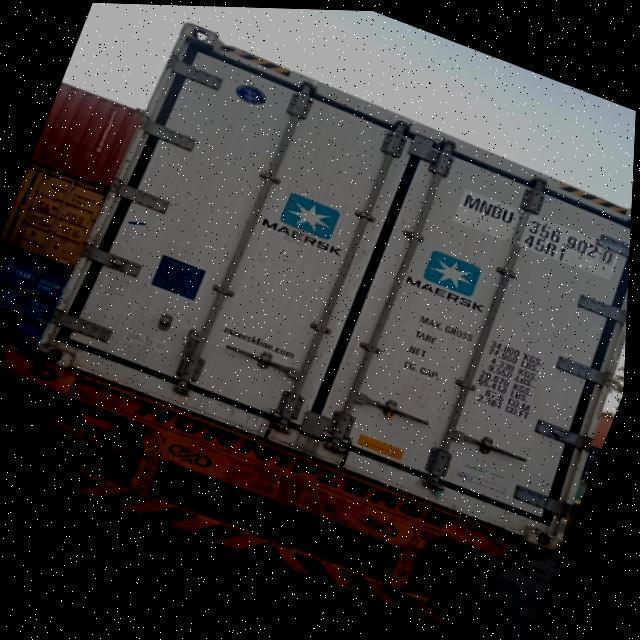ISO: (520, 230, 566, 270)
container_number: (463, 183, 624, 267)
